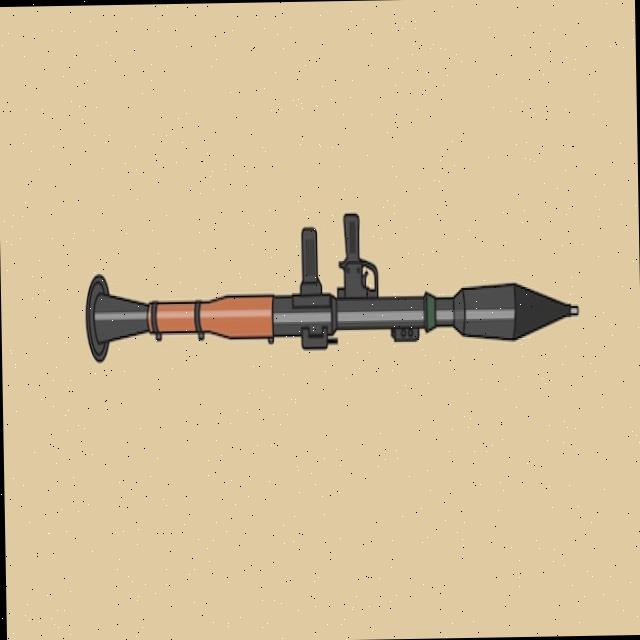Bazooka: (82, 206, 592, 390)
